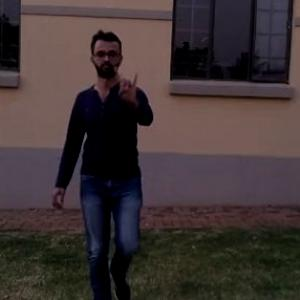takeoff-hand: (113, 65, 142, 106)
